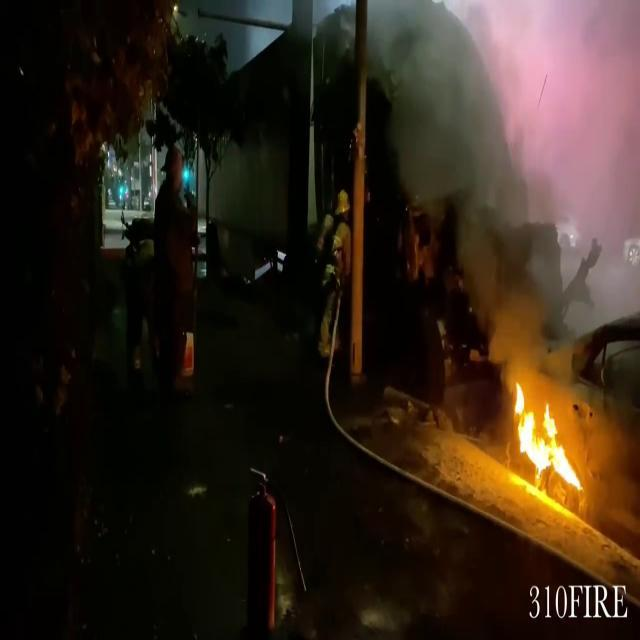Fire: (511, 376, 584, 492)
Smoke: (380, 0, 639, 372), (370, 0, 640, 243)
